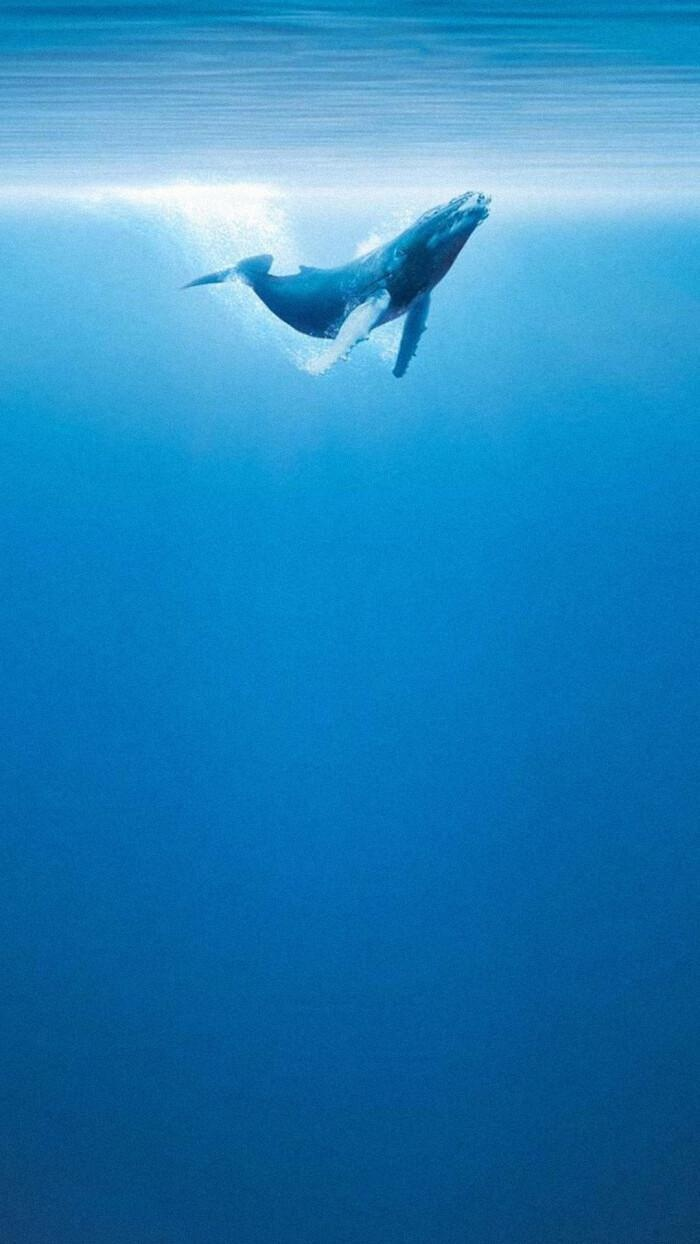fish: (176, 179, 496, 375)
